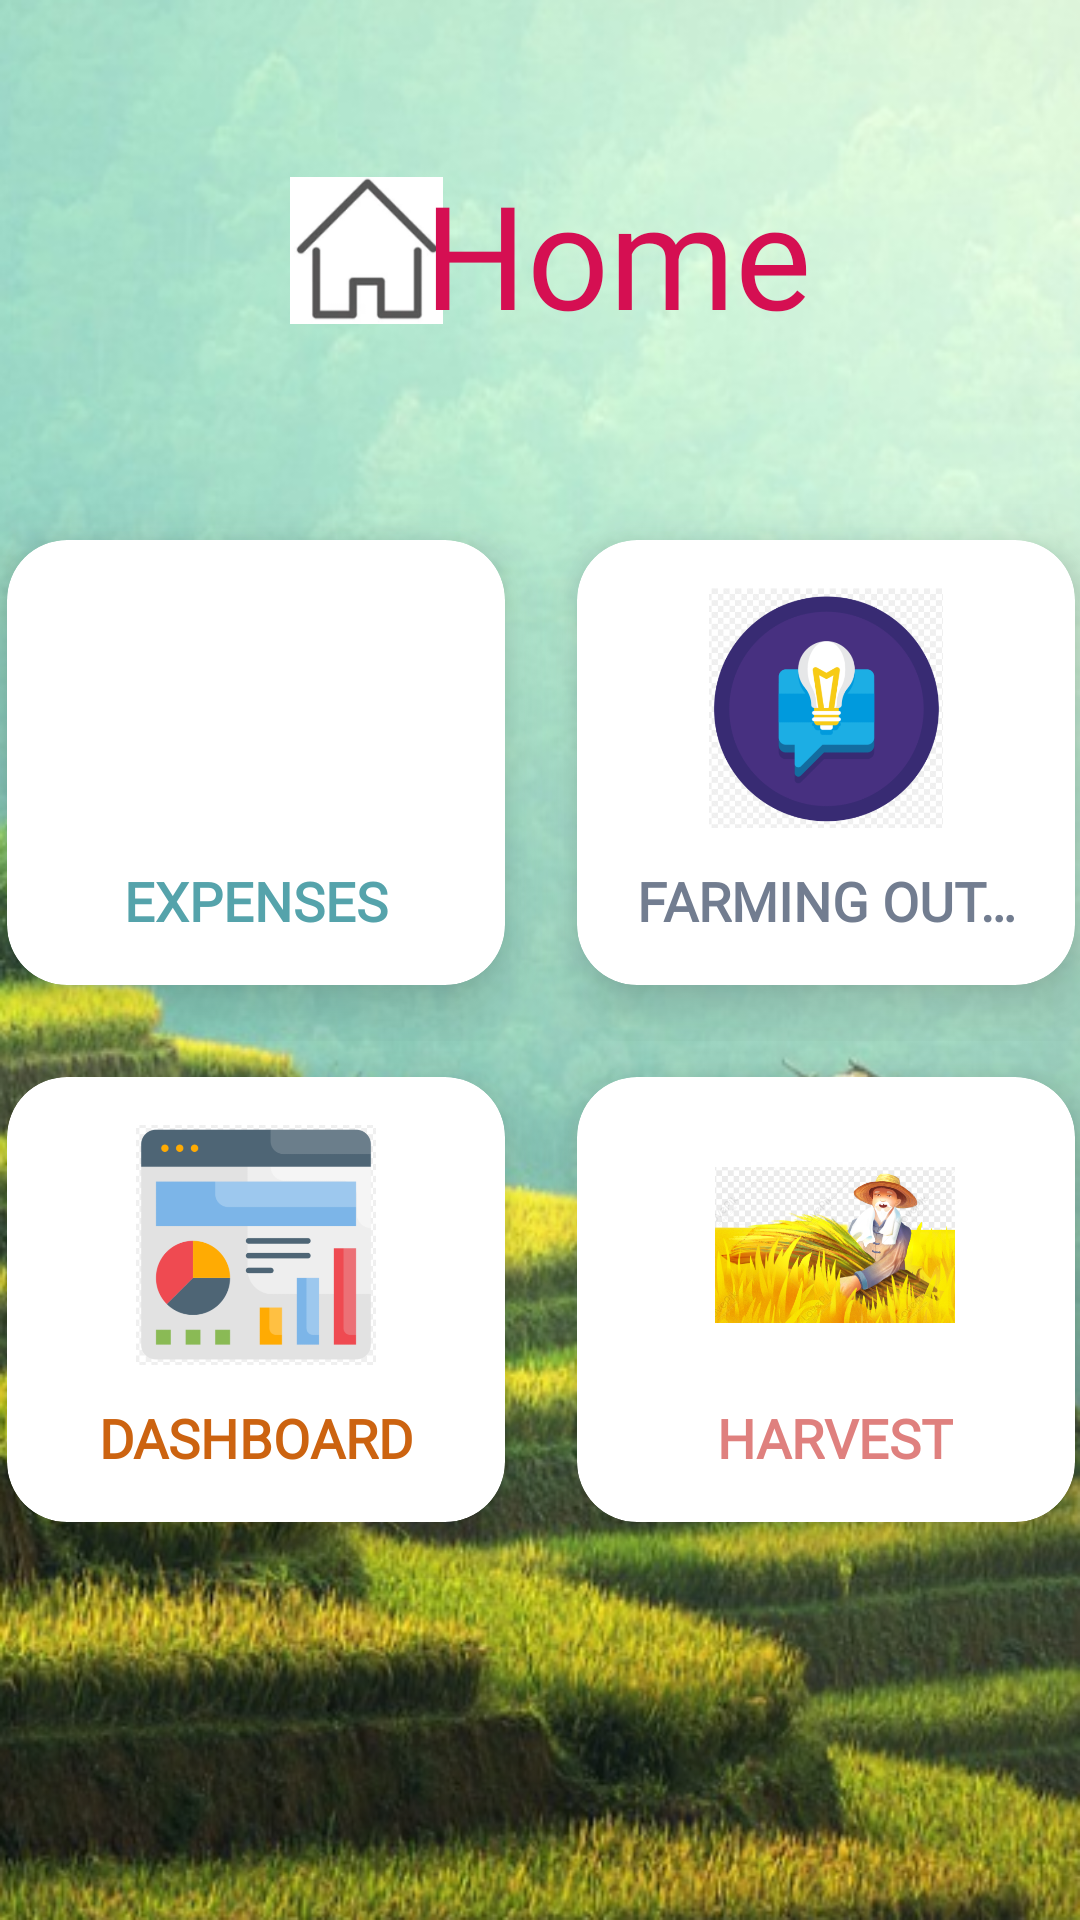

Screen size 1080w x 1920h. Icon name, then its center in pixels as (x,y):
suggestion: (826,709)
